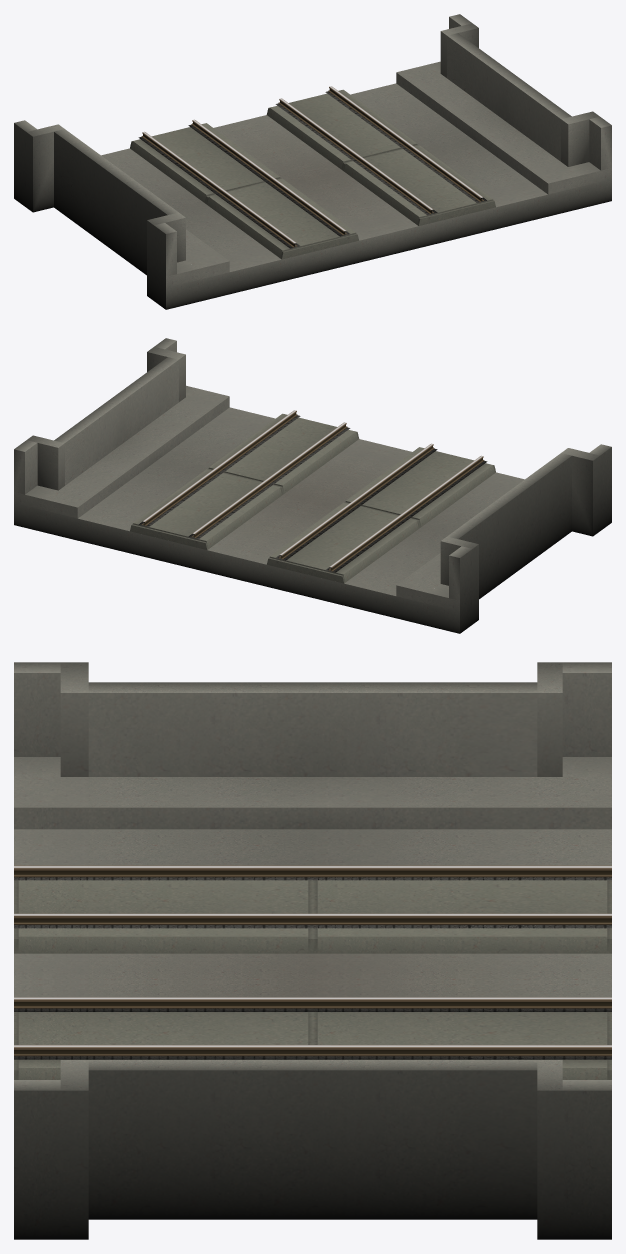
Rendered from 2RAIL_KONKURI_25.glb.
3 renders of one model, top to bottom at view 1: azimuth 30°, elevation 25°; view 2: azimuth 150°, elevation 25°; view 3: azimuth 270°, elevation 25°, orthographic. The views are drawn at different scales.
Visible parts, largest first — view 1: obj6; view 2: obj6; view 3: obj6.
Boxes of the visible parts, x1,y1,x2,y2 form: obj6: (14,14,611,309); obj6: (14,338,611,633); obj6: (14,662,611,1239).
Bounding box in the file's own units: 42.36 × 6.88 × 25.
3 materials, 2 textured.
